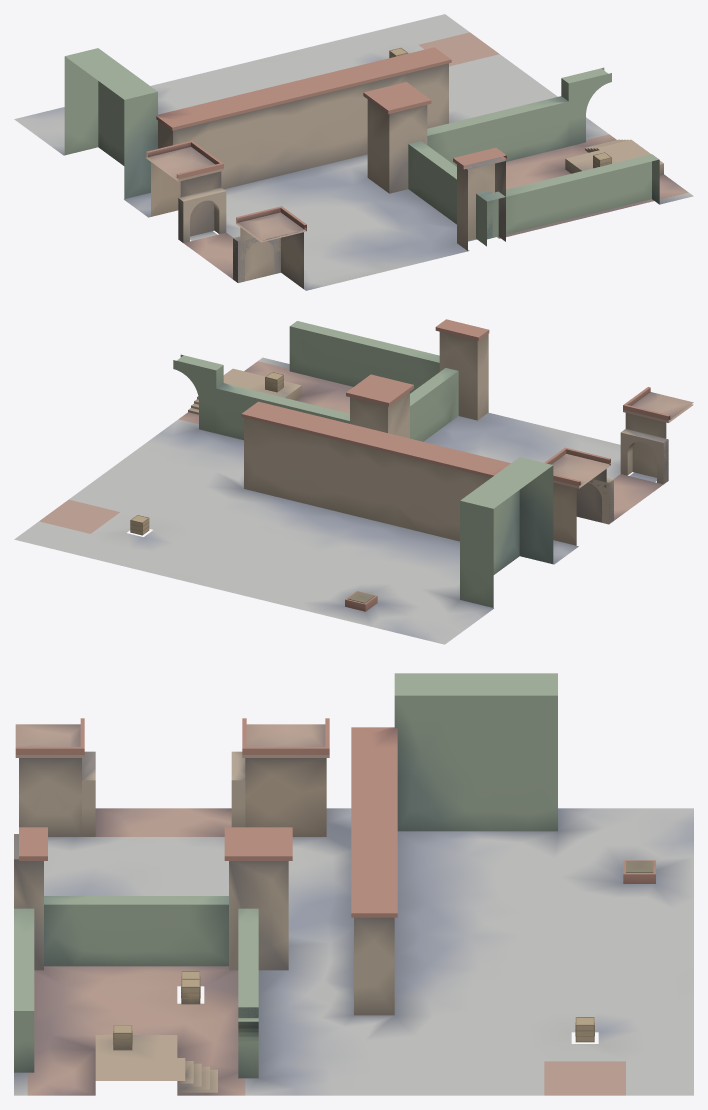
3 renders of one model, top to bottom at view 1: azimuth 30°, elevation 25°; view 2: azimuth 150°, elevation 25°; view 3: azimuth 270°, elevation 25°, orthographic. The views are drawn at different scales.
Visible parts, largest first — view 1: t; view 2: t; view 3: t.
Part boxes in pixels (bbox=[...]): t: bbox=[14, 14, 693, 290]; t: bbox=[14, 319, 693, 644]; t: bbox=[14, 673, 693, 1095].
Size of the model in its own units: 50.12 by 11 by 50.
